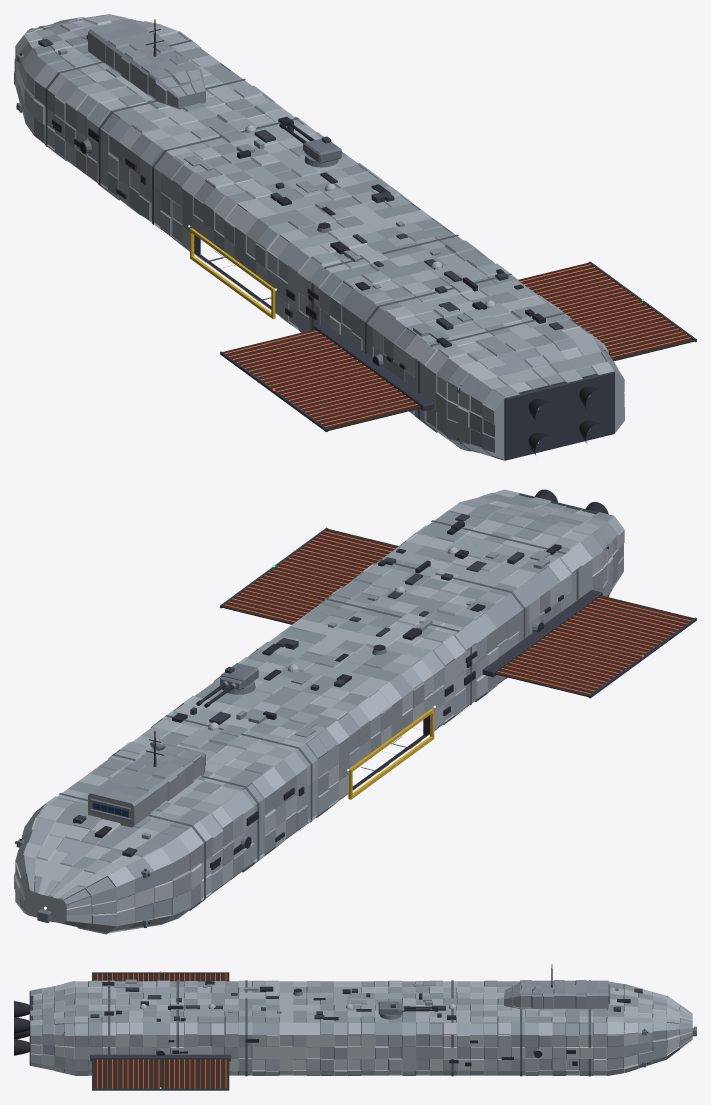
Rendered from hull-v1.glb.
3 views of the same model, one above another, from view 1: azimuth 30°, elevation 25°; view 2: azimuth 150°, elevation 25°; view 3: azimuth 270°, elevation 25° (orthographic). The views are drawn at different scales.
Visible parts, largest first — view 1: hull, fittings, radiator-port, radiator-stbd, island, turret-dorsal; view 2: hull, fittings, radiator-port, radiator-stbd, island, turret-dorsal; view 3: hull, fittings, radiator-stbd, island, radiator-port, turret-dorsal.
Boxes of the visible parts, left/top/right/bottom form: hull: left=14, top=14, right=624, bottom=460; fittings: left=16, top=19, right=614, bottom=460; radiator-port: left=220, top=329, right=421, bottom=431; radiator-stbd: left=518, top=261, right=696, bottom=361; island: left=88, top=19, right=205, bottom=109; turret-dorsal: left=303, top=136, right=341, bottom=163; hull: left=14, top=489, right=624, bottom=934; fittings: left=15, top=489, right=608, bottom=927; radiator-port: left=495, top=595, right=696, bottom=698; radiator-stbd: left=220, top=527, right=398, bottom=624; island: left=88, top=744, right=205, bottom=827; turret-dorsal: left=220, top=663, right=258, bottom=690; hull: left=30, top=980, right=692, bottom=1075; fittings: left=14, top=963, right=696, bottom=1076; radiator-stbd: left=92, top=1059, right=229, bottom=1090; island: left=504, top=980, right=608, bottom=1009; radiator-port: left=92, top=971, right=229, bottom=981; turret-dorsal: left=378, top=1001, right=402, bottom=1014.
Size of the model in its own units: 161 by 66.45 by 398.
